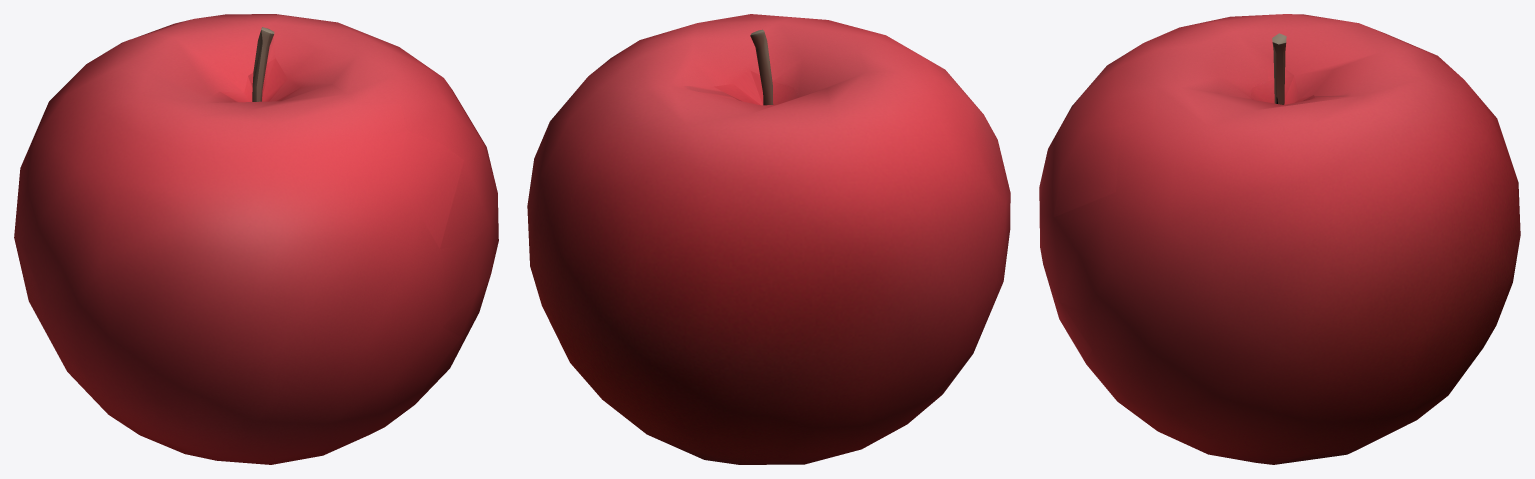
File: Apple.dae
3 renders of one model, left to right at view 1: azimuth 30°, elevation 25°; view 2: azimuth 150°, elevation 25°; view 3: azimuth 270°, elevation 25°, orthographic.
Parts seen in each view (by area): view 1: Apple_body, Apple_top; view 2: Apple_body, Apple_top; view 3: Apple_body, Apple_top.
Part boxes in pixels (x1,y1,x2,y2): Apple_body: (14, 14, 498, 464); Apple_top: (252, 27, 274, 101); Apple_body: (527, 14, 1010, 464); Apple_top: (750, 29, 773, 105); Apple_body: (1039, 14, 1520, 464); Apple_top: (1272, 33, 1286, 104).
Bounding box in the file's own units: 77.64 × 78.03 × 71.08.
